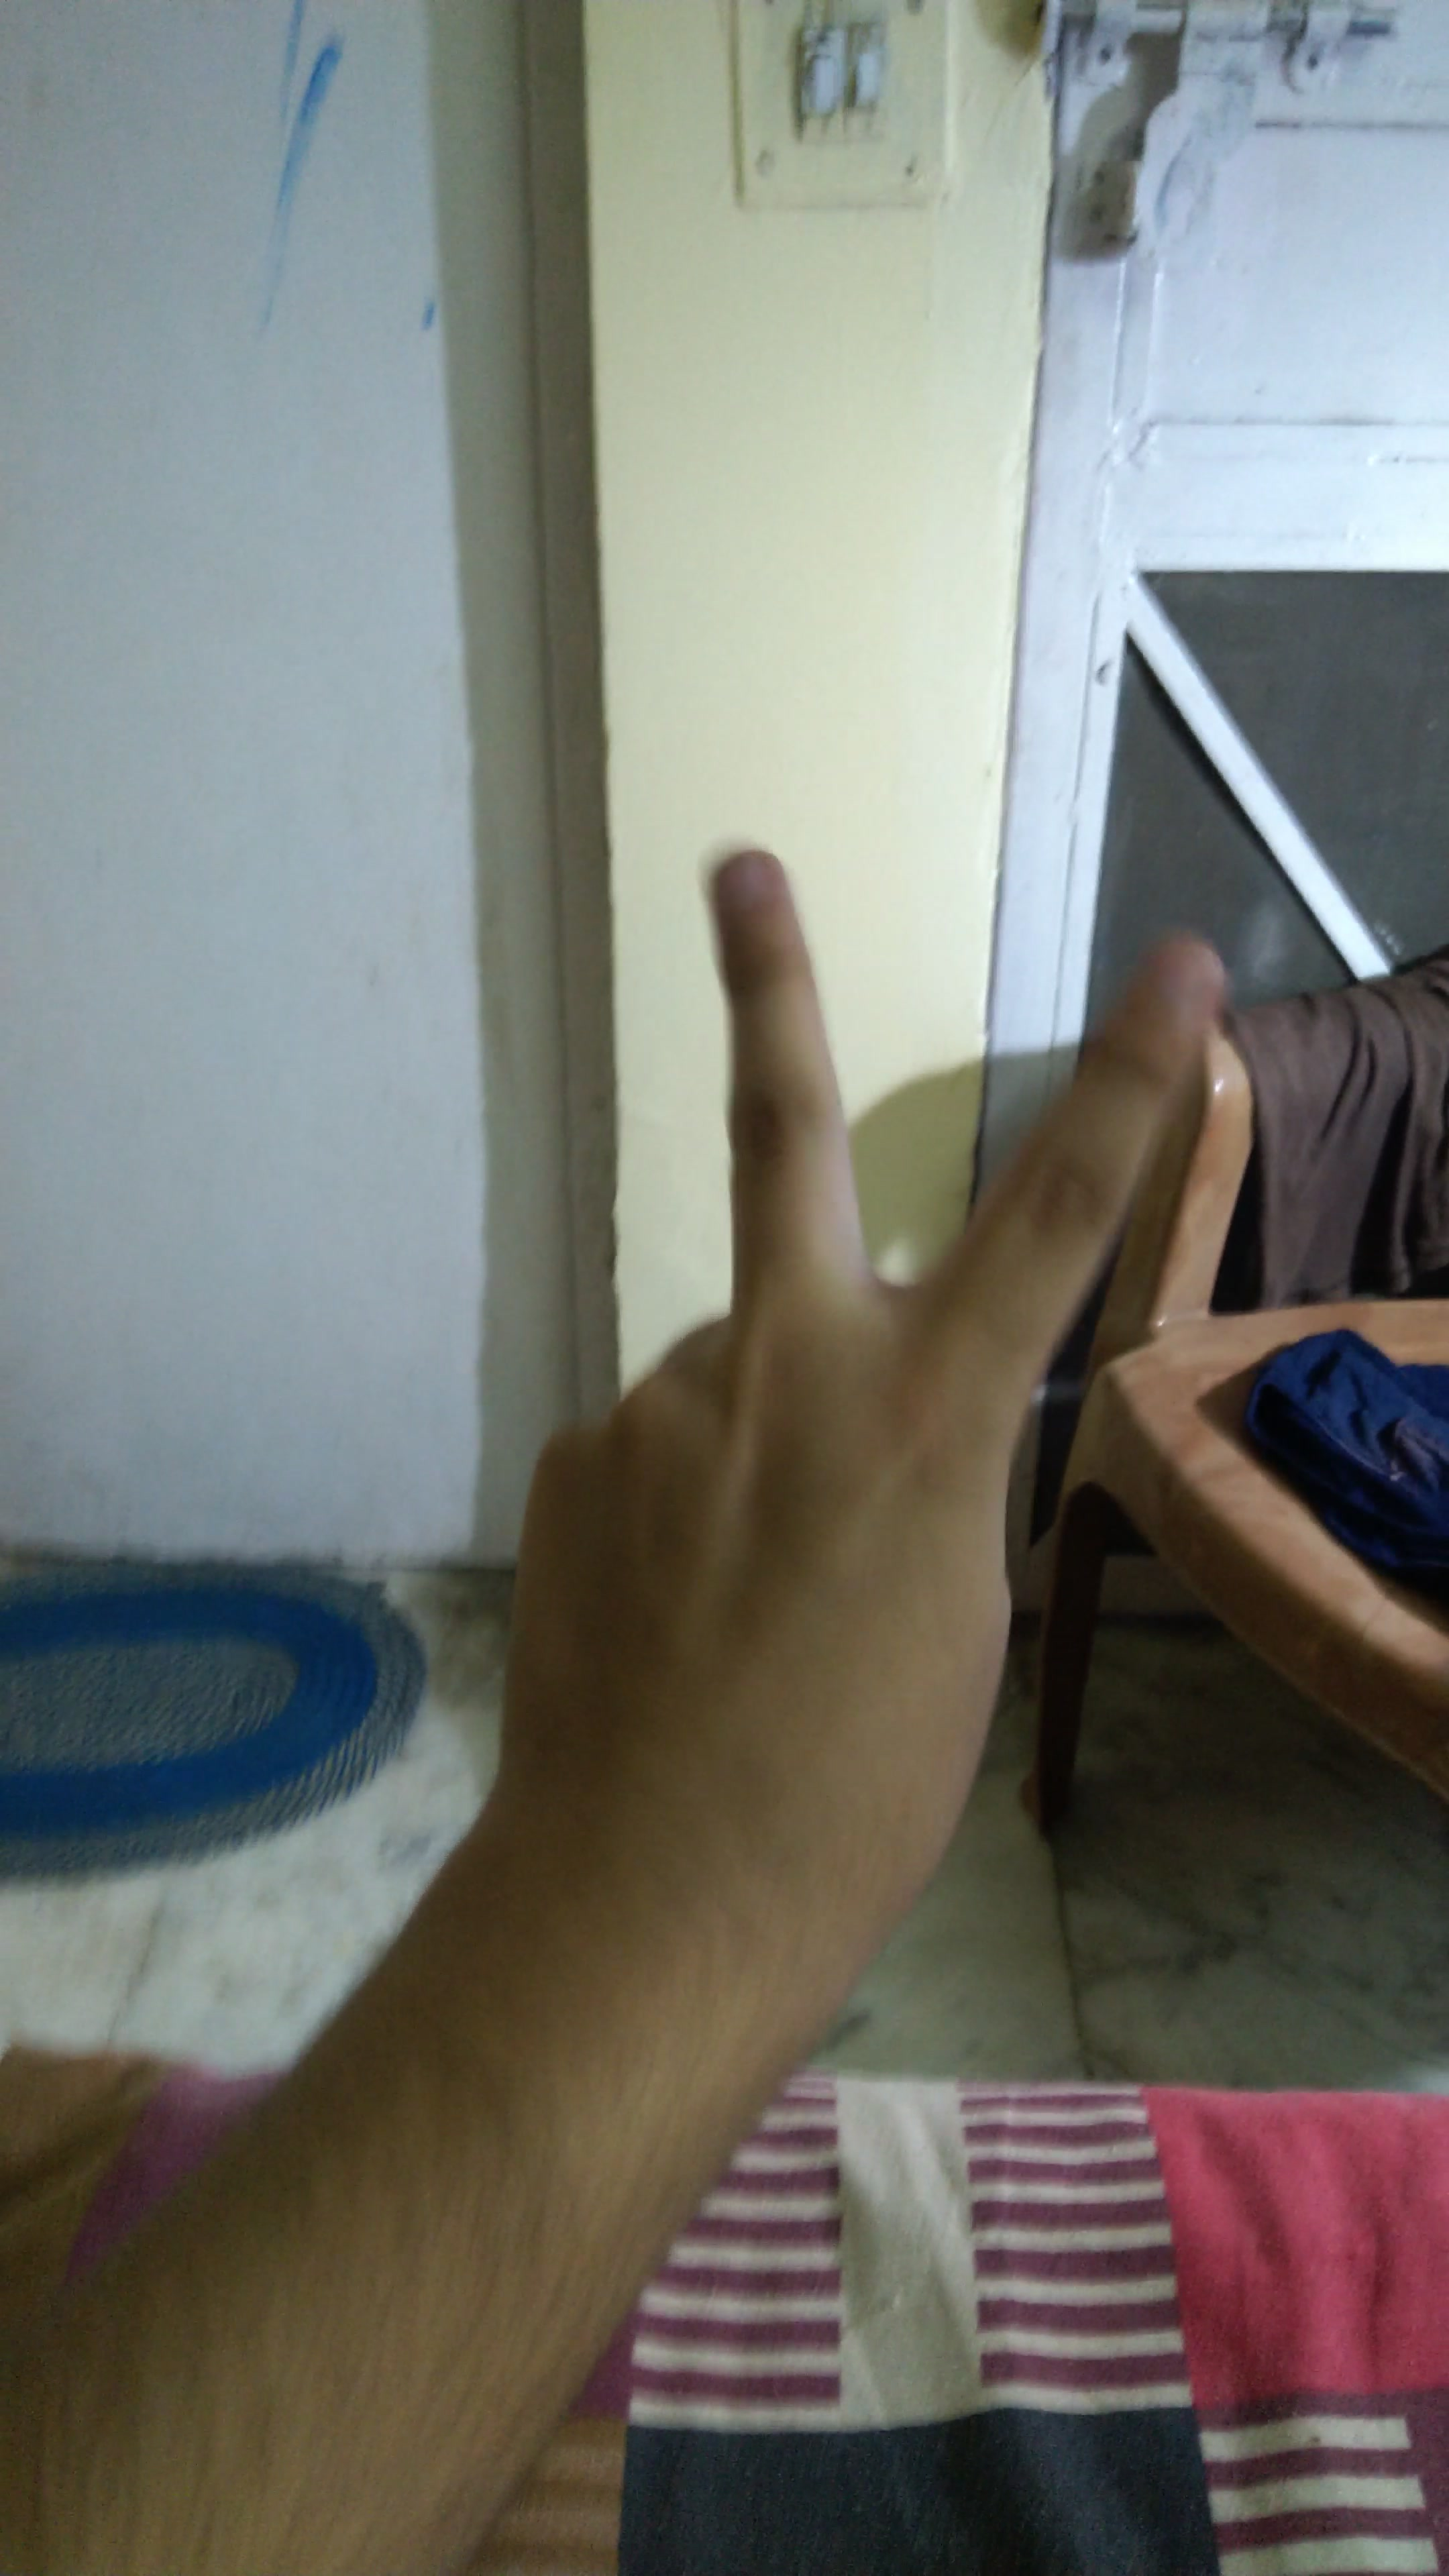hand: (465, 796, 1247, 2059)
